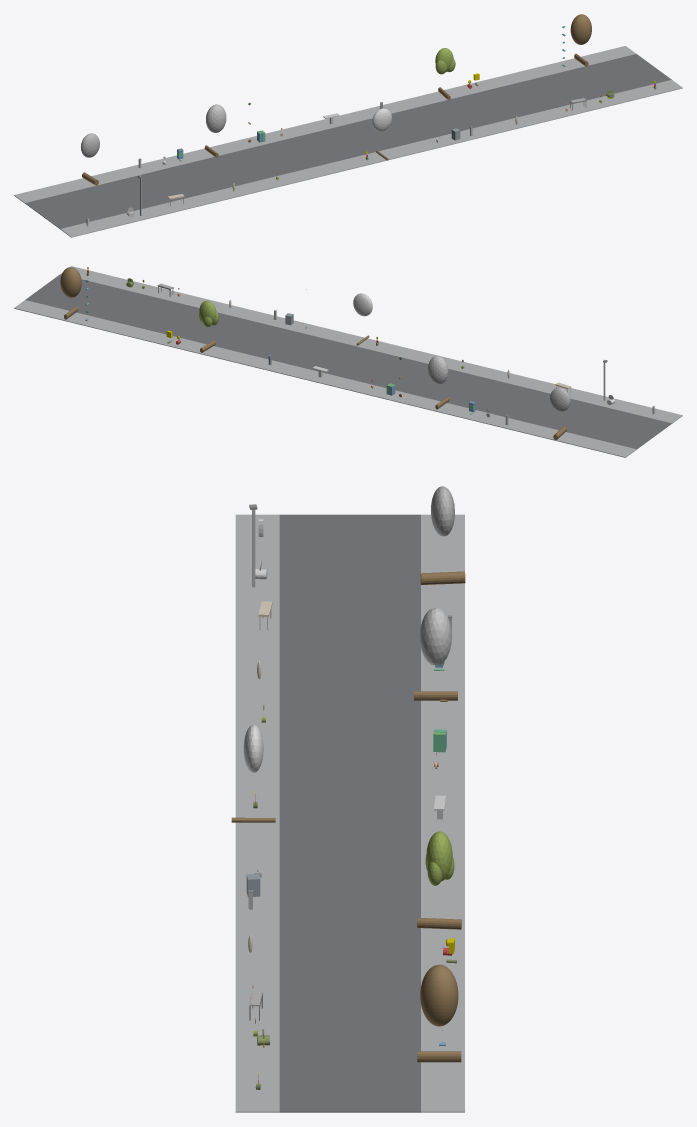
The picture shows the model from 3 angles, top to bottom: view 1: azimuth 30°, elevation 25°; view 2: azimuth 150°, elevation 25°; view 3: azimuth 270°, elevation 25°; orthographic projection. The views are drawn at different scales.
Parts seen in each view (by area): view 1: road_slab, sidewalk_left, sidewalk_right, inst_0016, inst_0013, inst_0015, inst_0012, inst_0014; view 2: road_slab, sidewalk_right, sidewalk_left, inst_0016, inst_0013, inst_0015, inst_0012, inst_0014; view 3: road_slab, sidewalk_left, sidewalk_right, inst_0016, inst_0013, inst_0015, inst_0012, inst_0014.
Part boxes in pixels (bbox=[...]): road_slab: bbox=[25, 54, 671, 228]; sidewalk_left: bbox=[60, 80, 682, 237]; sidewalk_right: bbox=[14, 46, 636, 203]; inst_0016: bbox=[570, 14, 591, 66]; inst_0013: bbox=[204, 104, 226, 157]; inst_0015: bbox=[435, 48, 455, 100]; inst_0012: bbox=[81, 133, 99, 185]; inst_0014: bbox=[372, 108, 391, 160]; road_slab: bbox=[25, 274, 671, 449]; sidewalk_right: bbox=[14, 300, 636, 457]; sidewalk_left: bbox=[60, 266, 682, 423]; inst_0016: bbox=[60, 267, 81, 319]; inst_0013: bbox=[427, 356, 449, 409]; inst_0015: bbox=[199, 300, 218, 352]; inst_0012: bbox=[550, 387, 570, 439]; inst_0014: bbox=[353, 293, 372, 345]; road_slab: bbox=[279, 514, 420, 1112]; sidewalk_left: bbox=[235, 514, 279, 1112]; sidewalk_right: bbox=[421, 514, 464, 1112]; inst_0016: bbox=[417, 964, 461, 1062]; inst_0013: bbox=[414, 607, 457, 700]; inst_0015: bbox=[417, 831, 461, 929]; inst_0012: bbox=[420, 486, 465, 584]; inst_0014: bbox=[231, 725, 275, 822].
Size of the model in its own units: 80 by 6.08 by 13.25.
